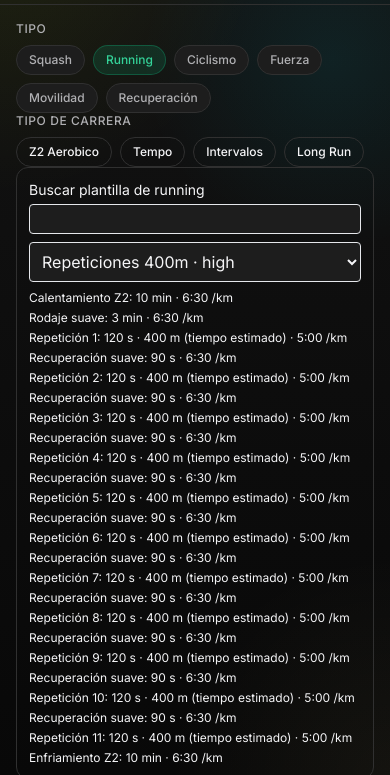
Test: cambiar de plantilla compara la dosis contra la sesión original
Select "Easy Z2 base · low" in the dropdown named "Plantilla de running" at x=195, y=262, box [29,242,361,282]
(page scrolled)
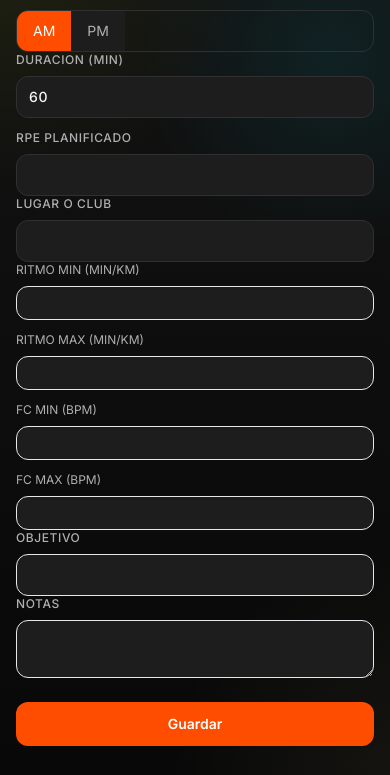
Click the button "Guardar" at x=195, y=724, box [16,702,374,746]
(page scrolled)
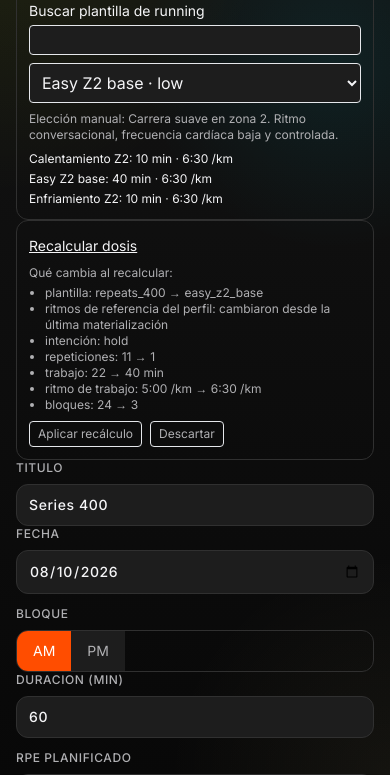
expect the element with test id "running-recalc-diff" shows "repeticiones: 11 → 1": met, box [45,349,155,364]
